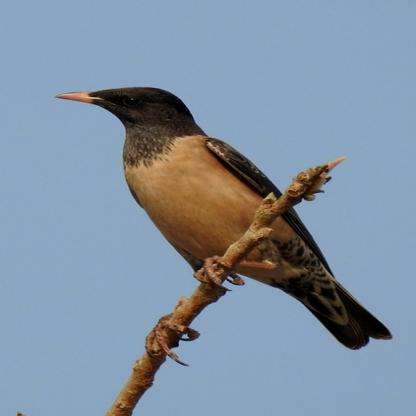Burung: (52, 84, 399, 350)
